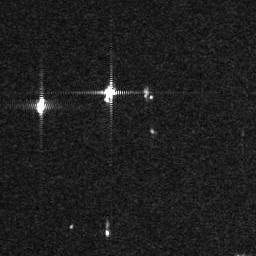ship: (102, 84, 116, 105), (35, 96, 46, 115)
